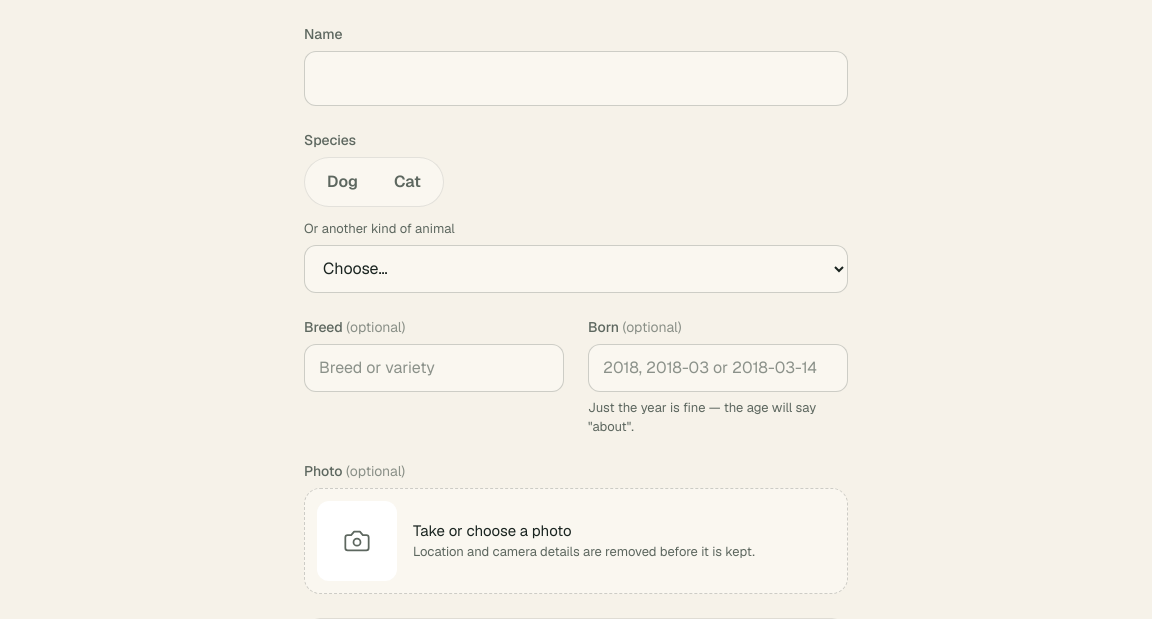
Test: Add animal: About link and hint › Escape closes the sheet
Select "Rabbit" in the dropdown labelled "Or another kind of animal" at (576, 268), box top-left (304, 244), bottom-right (848, 292)
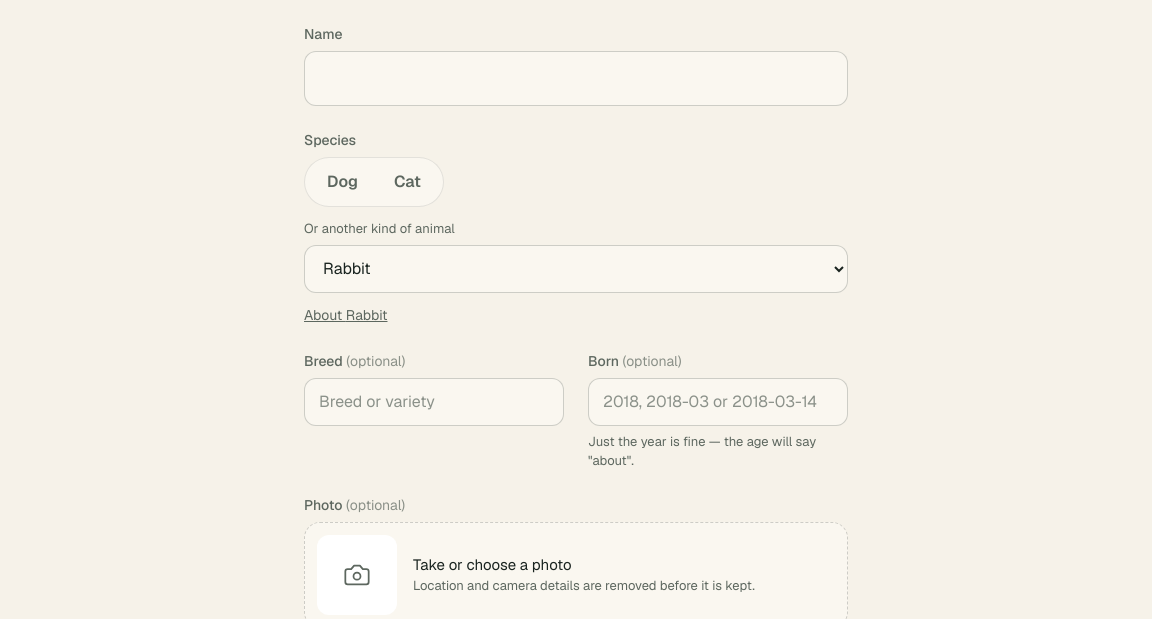
Click the button "About Rabbit".
click(346, 315)  # box top-left (304, 304), bottom-right (388, 326)
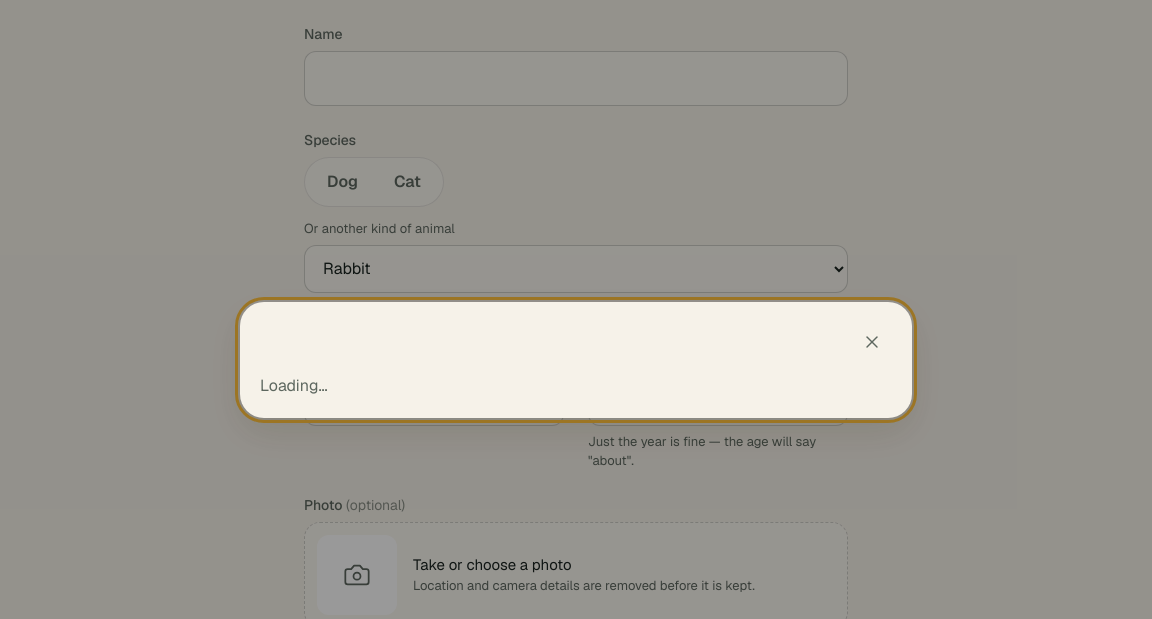
Expected: the dialog is shown, top-left (240, 302), bottom-right (912, 418)
Press Escape
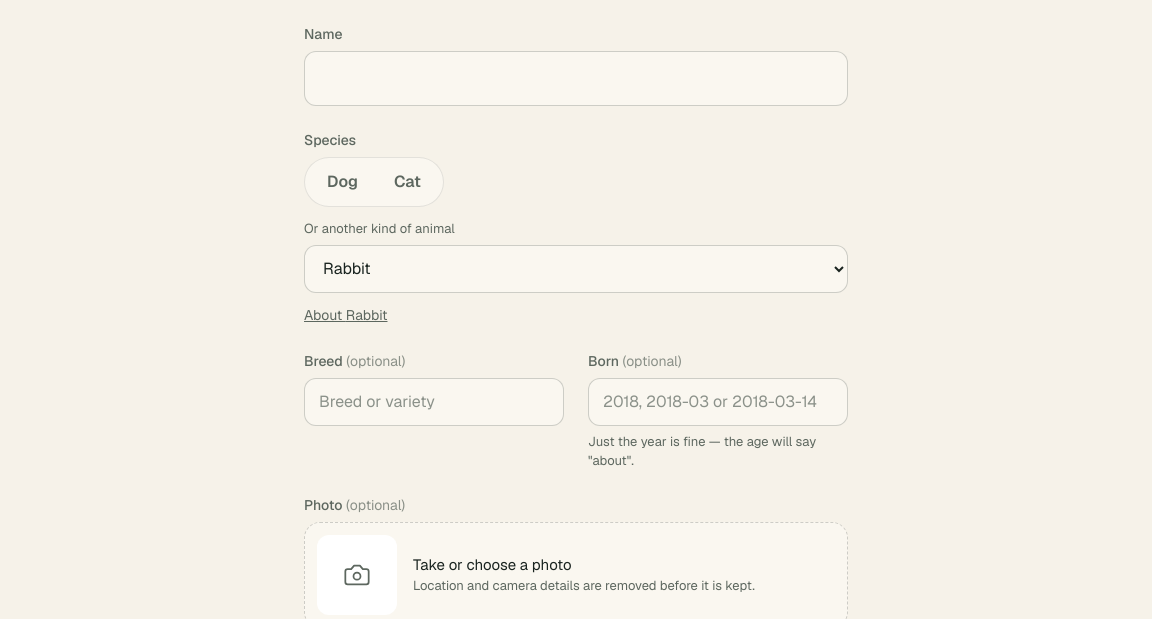
Expected: the dialog is gone
